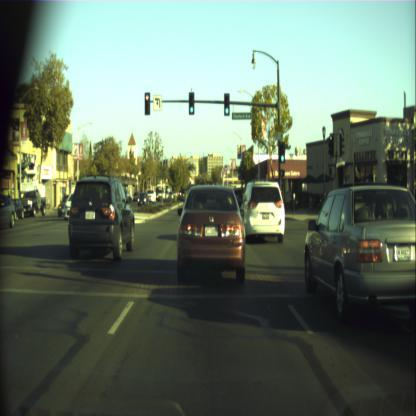Green: (278, 140, 285, 162), (188, 92, 194, 114), (224, 93, 229, 115)
RedLeft: (144, 92, 150, 115)
